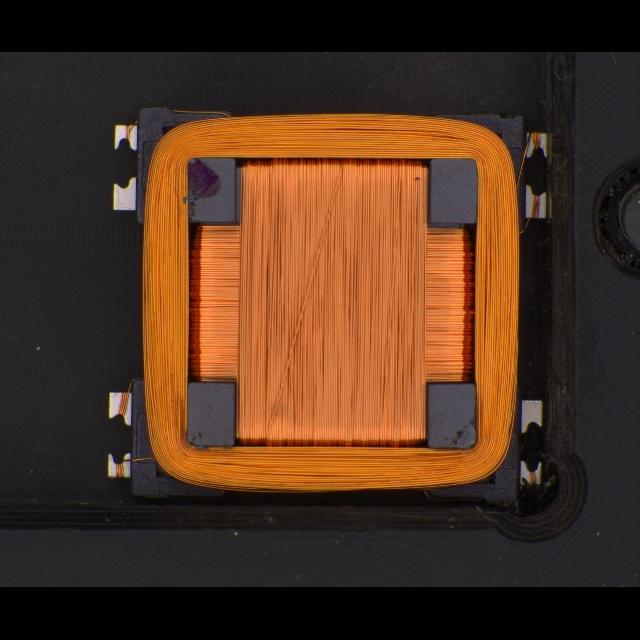Winding_Z: (126, 108, 525, 497)
